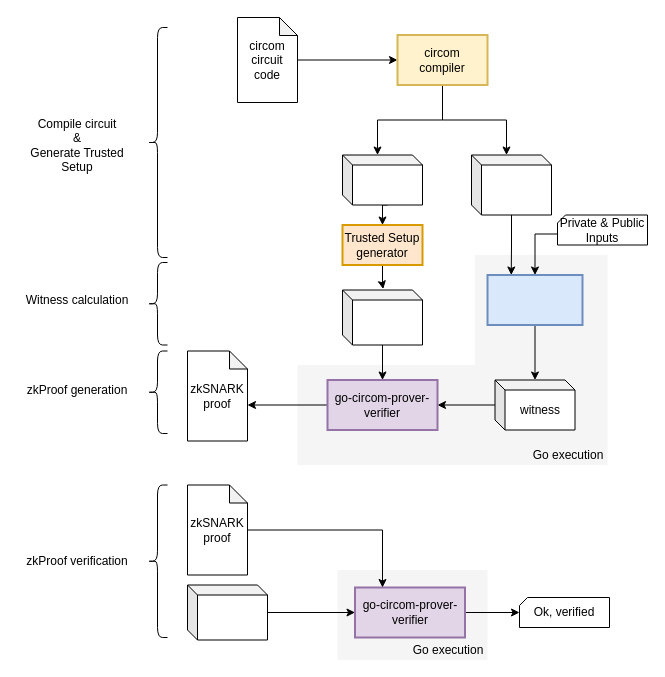
This 665x677 diagram has some shape labels left out. Here are the shapes that lost their labels. From the top down, the centre of each, then its label:
At pixel 382 179: "circuit compiled".
At pixel 511 184: "witness WASM calculation".
At pixel 382 317: "Trusted Setup (pk)".
At pixel 534 300: "go-circom-witnesscalc".
At pixel 227 612: "Trusted Setup (vk)".
